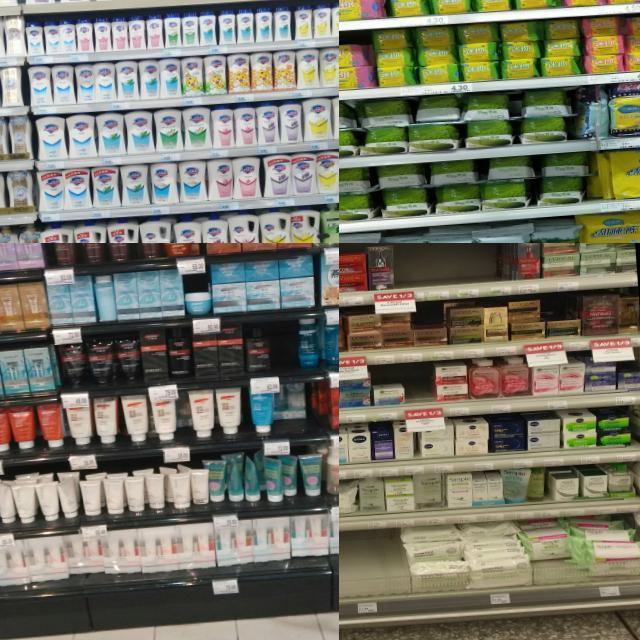empty: (339, 530, 405, 619), (403, 364, 439, 419), (268, 321, 298, 384), (393, 243, 425, 302), (422, 243, 453, 300), (451, 243, 479, 298), (477, 243, 504, 296)
